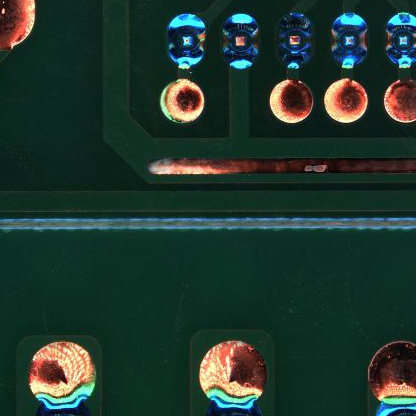spot: (271, 9, 316, 68), (165, 12, 207, 71), (221, 13, 260, 72), (329, 13, 370, 69), (385, 10, 416, 67)
